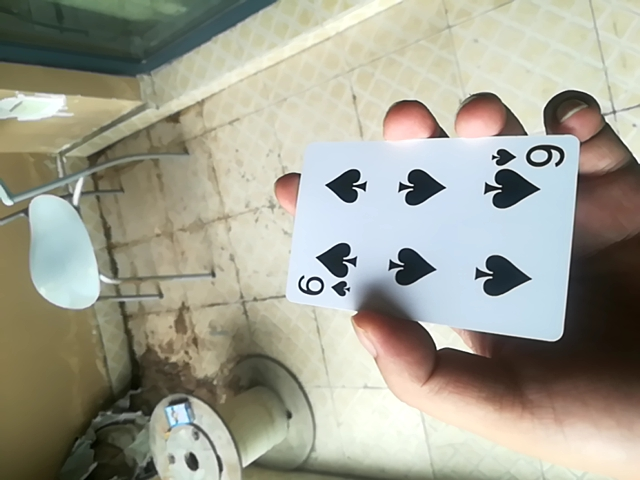ht 6: (288, 128, 584, 346)
